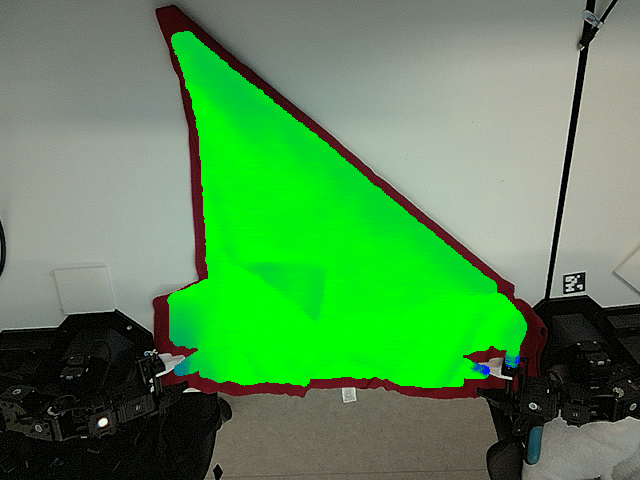V: (302, 259, 339, 288)
